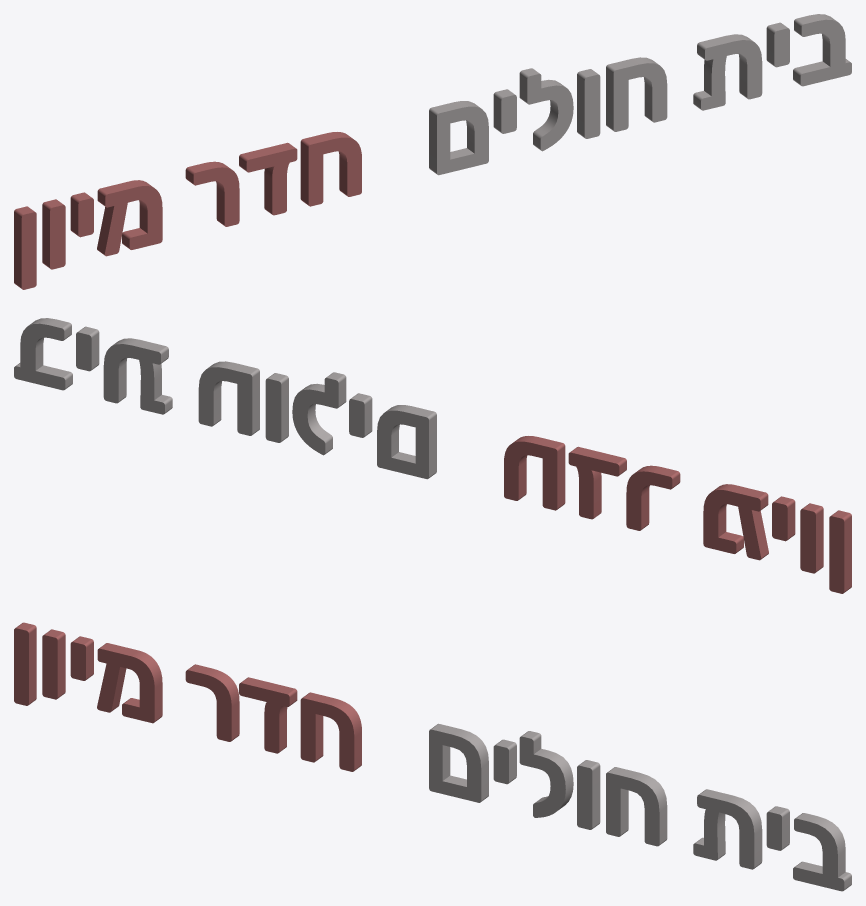
File: SM_Signs_HEB_01.fbx
3 renders of one model, top to bottom at view 1: azimuth 30°, elevation 25°; view 2: azimuth 150°, elevation 25°; view 3: azimuth 330°, elevation 25°, orthographic.
Visible parts, largest first — view 1: SM_HospSign_HEB_01, SM_ERsign_HEB_01; view 2: SM_HospSign_HEB_01, SM_ERsign_HEB_01; view 3: SM_HospSign_HEB_01, SM_ERsign_HEB_01.
Part boxes in pixels (x1,y1,x2,y2): SM_HospSign_HEB_01: [429, 14, 851, 175]; SM_ERsign_HEB_01: [14, 132, 361, 289]; SM_HospSign_HEB_01: [14, 318, 436, 479]; SM_ERsign_HEB_01: [504, 436, 851, 593]; SM_HospSign_HEB_01: [429, 723, 851, 891]; SM_ERsign_HEB_01: [14, 622, 361, 771].
Size of the model in its own units: 67.69 by 7.04 by 1.1.
